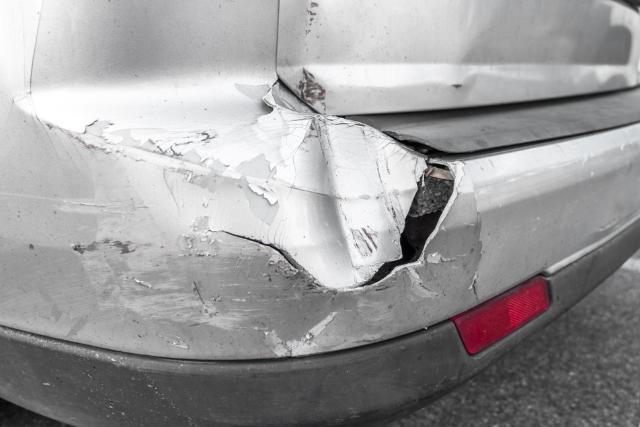Bumper: (2, 12, 518, 357)
